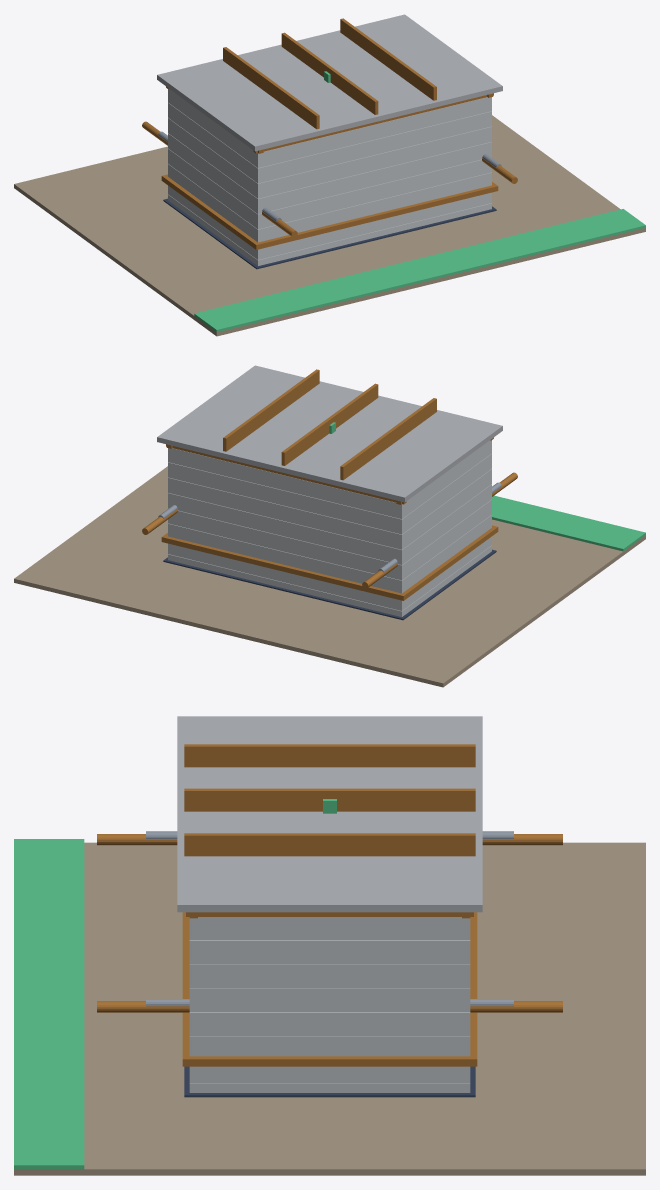
File: stage_12_complete.glb
3 renders of one model, top to bottom at view 1: azimuth 30°, elevation 25°; view 2: azimuth 150°, elevation 25°; view 3: azimuth 270°, elevation 25°, orthographic. The views are drawn at different scales.
Parts seen in each view (by area): view 1: world; view 2: world; view 3: world.
Part boxes in pixels (x1,y1,x2,y2): world: (14, 14, 645, 336); world: (14, 365, 645, 687); world: (14, 716, 645, 1175).
Bounding box in the file's own units: 11 × 3.59 × 9.
